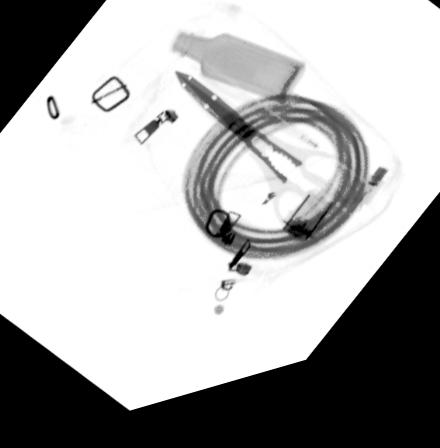Scissors: (173, 80, 367, 253)
